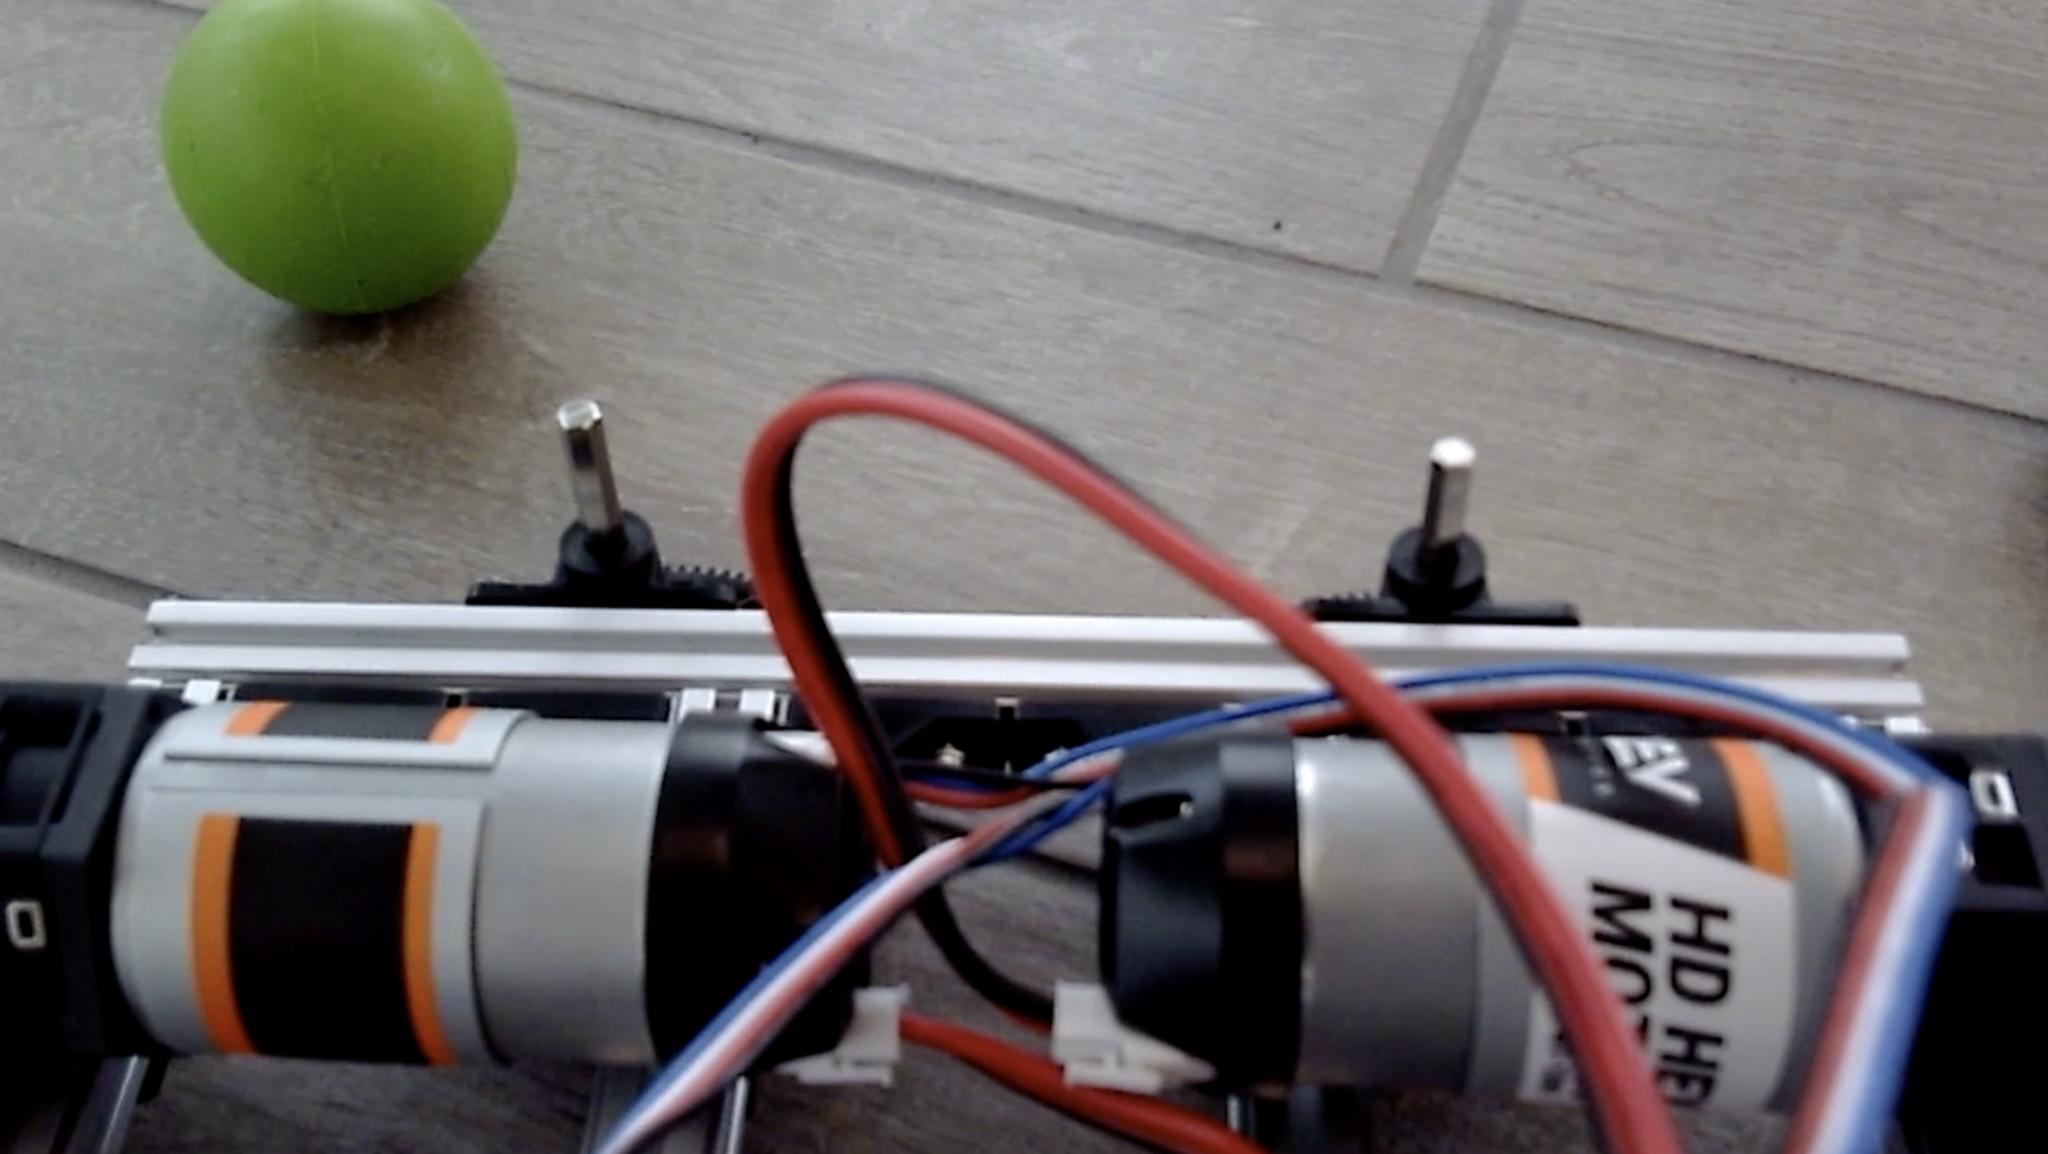greenball: (156, 0, 520, 318)
